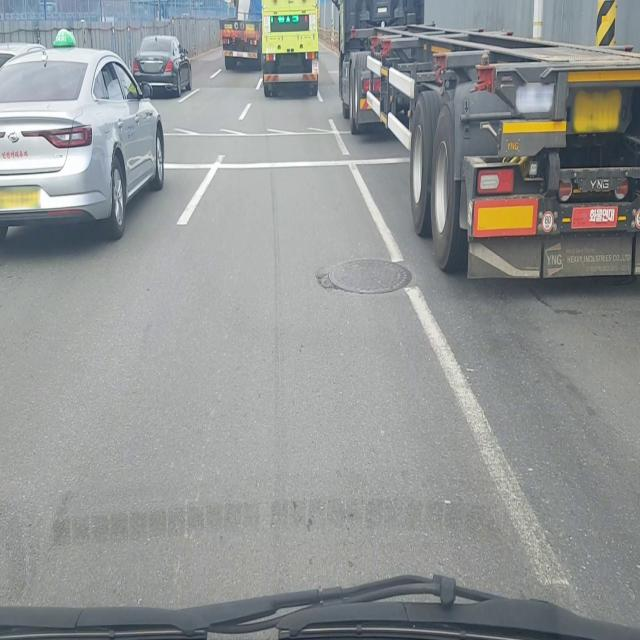Pothole: (316, 256, 412, 295)
